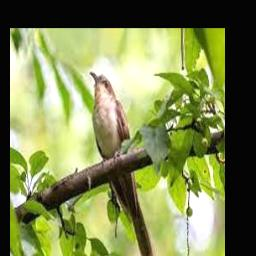Cuckoo: (89, 71, 161, 256)
